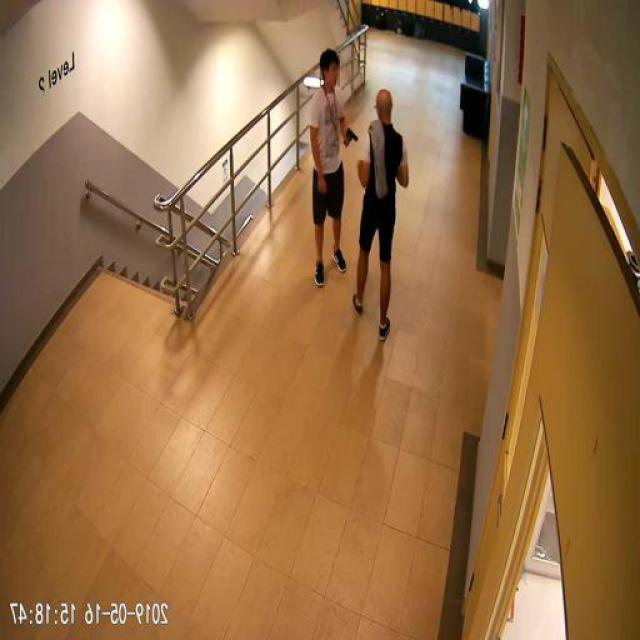weapon: (343, 129, 358, 148)
